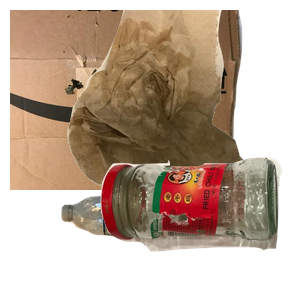cardboard: (10, 10, 245, 190)
glass: (98, 155, 300, 300)
plastic: (59, 193, 241, 300)
trash: (65, 10, 300, 190)
